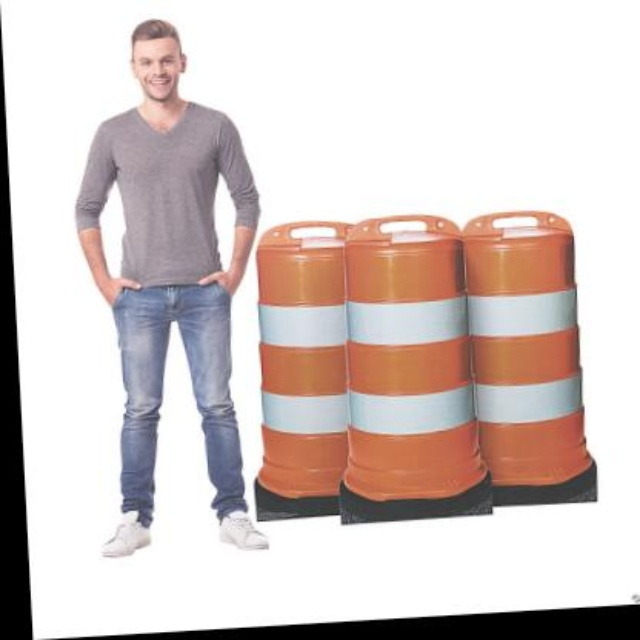obstacle: (336, 203, 486, 514), (464, 213, 587, 490)
